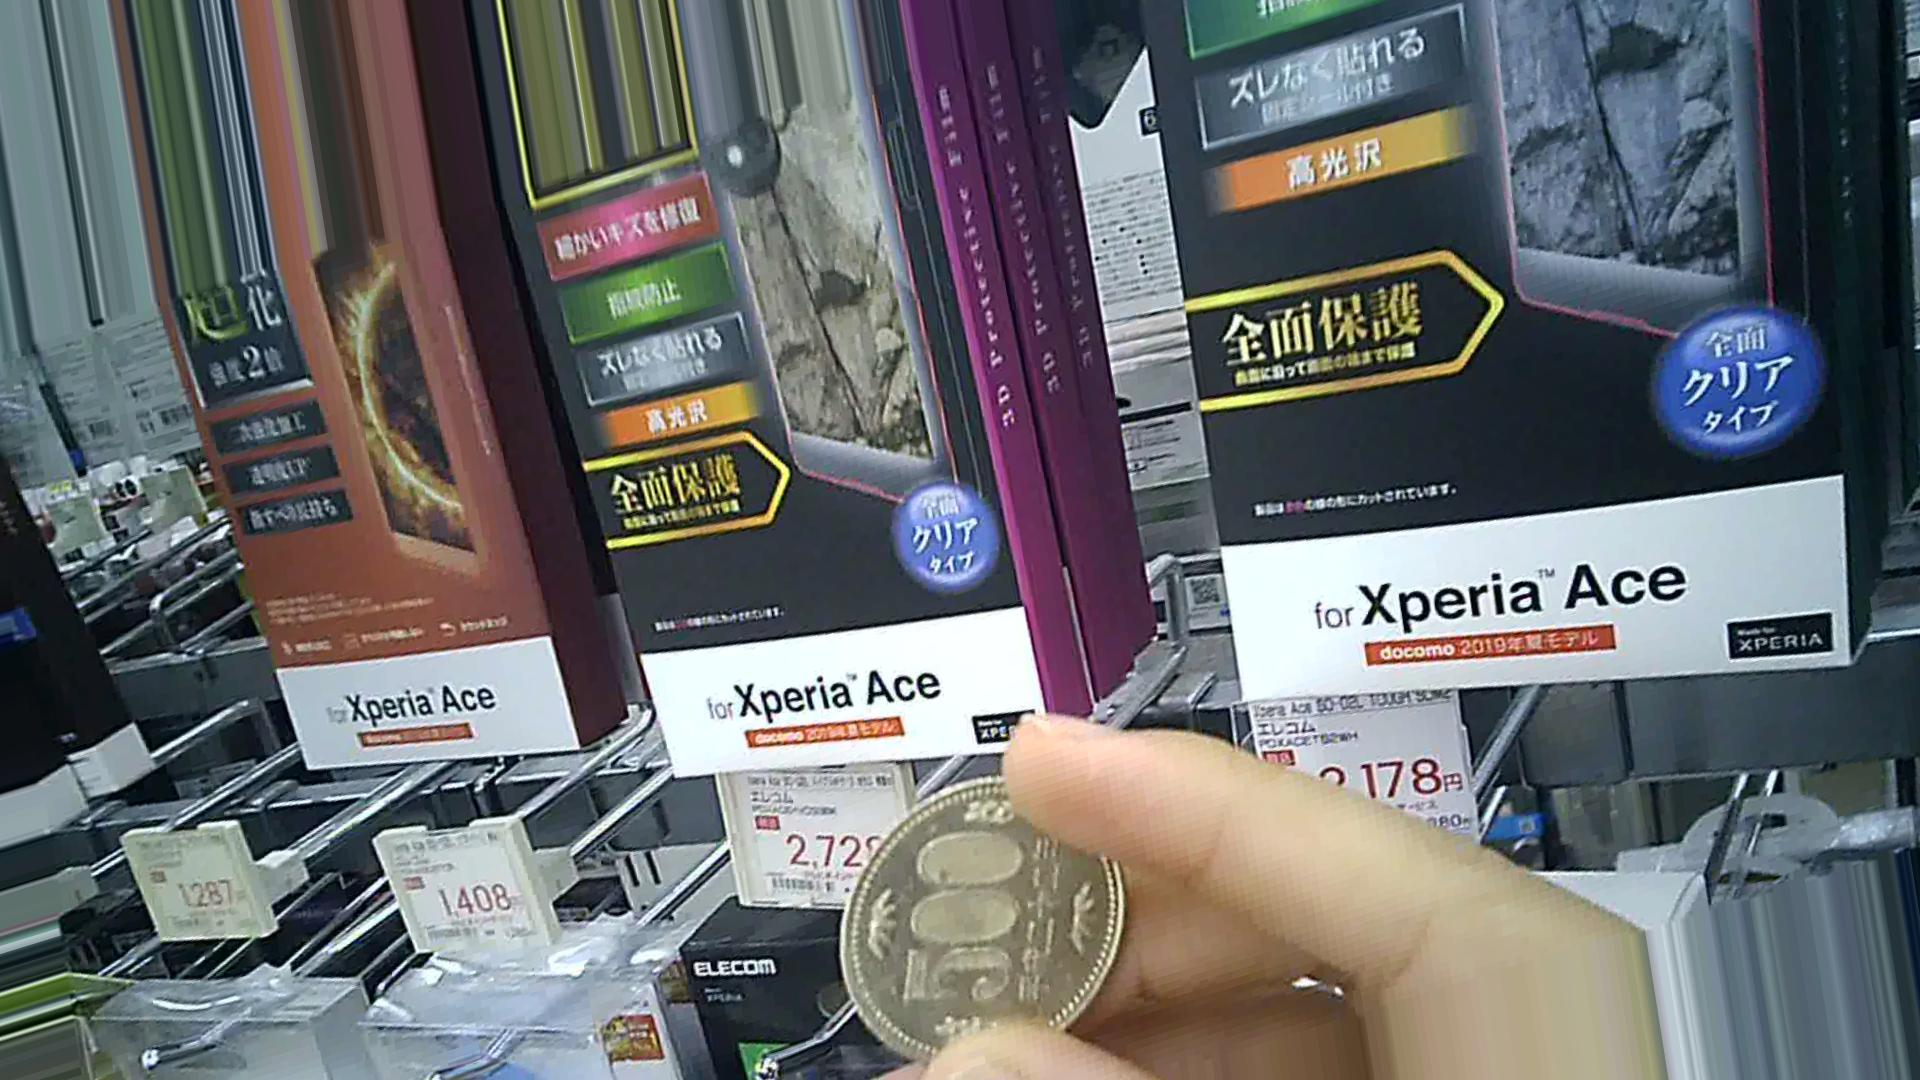500 Yen: (832, 779, 1142, 1073)
